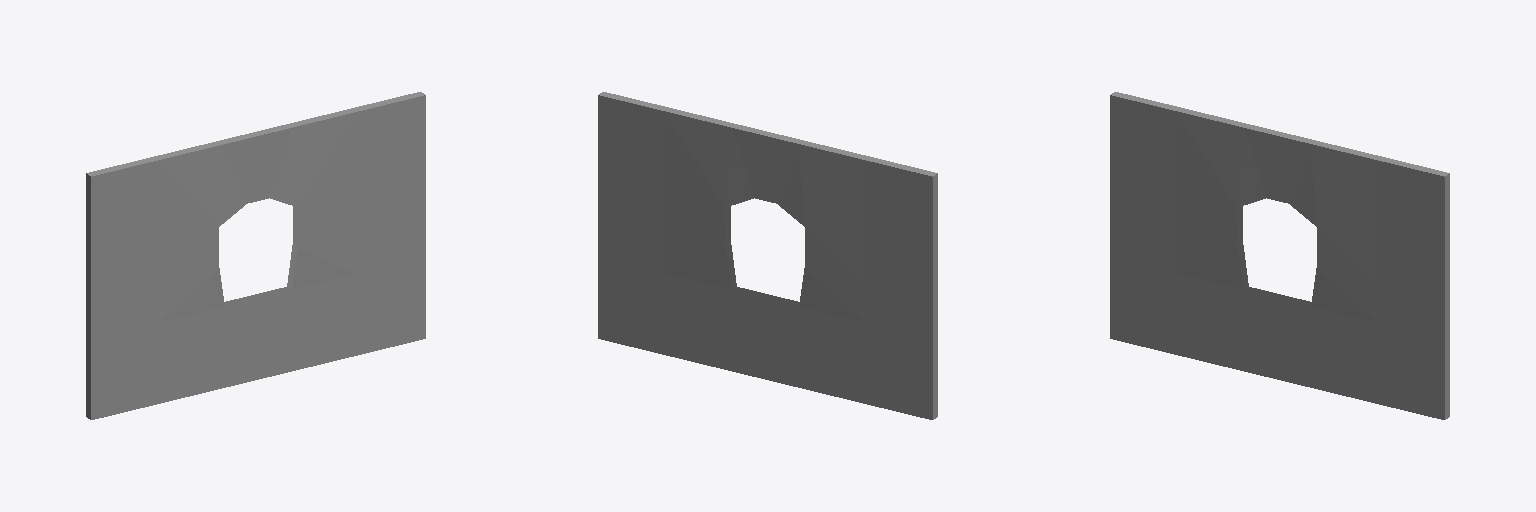
Rendered from Wall_back.obj.
3 renders of one model, left to right at view 1: azimuth 30°, elevation 25°; view 2: azimuth 150°, elevation 25°; view 3: azimuth 330°, elevation 25°, orthographic.
Parts seen in each view (by area): view 1: Wall_back_Cube.007; view 2: Wall_back_Cube.007; view 3: Wall_back_Cube.007.
Boxes of the visible parts, x1=… form: Wall_back_Cube.007: x1=86, y1=92, x2=425, y2=419; Wall_back_Cube.007: x1=598, y1=92, x2=937, y2=419; Wall_back_Cube.007: x1=1110, y1=92, x2=1449, y2=419.
Size of the model in its own units: 9.23 by 6.43 by 0.2786.